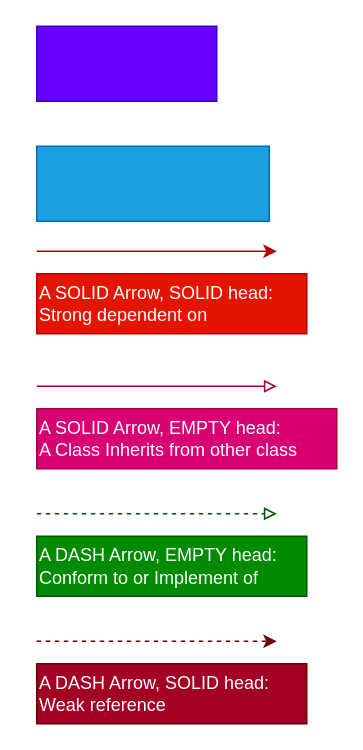
Image size: 363x750. Some labels were removed from this diagram. Each missing label, with the centre of its shape:
"<An Interface Abstraction>" belongs at [152,183].
"An Instant of Class" belongs at [126,63].
